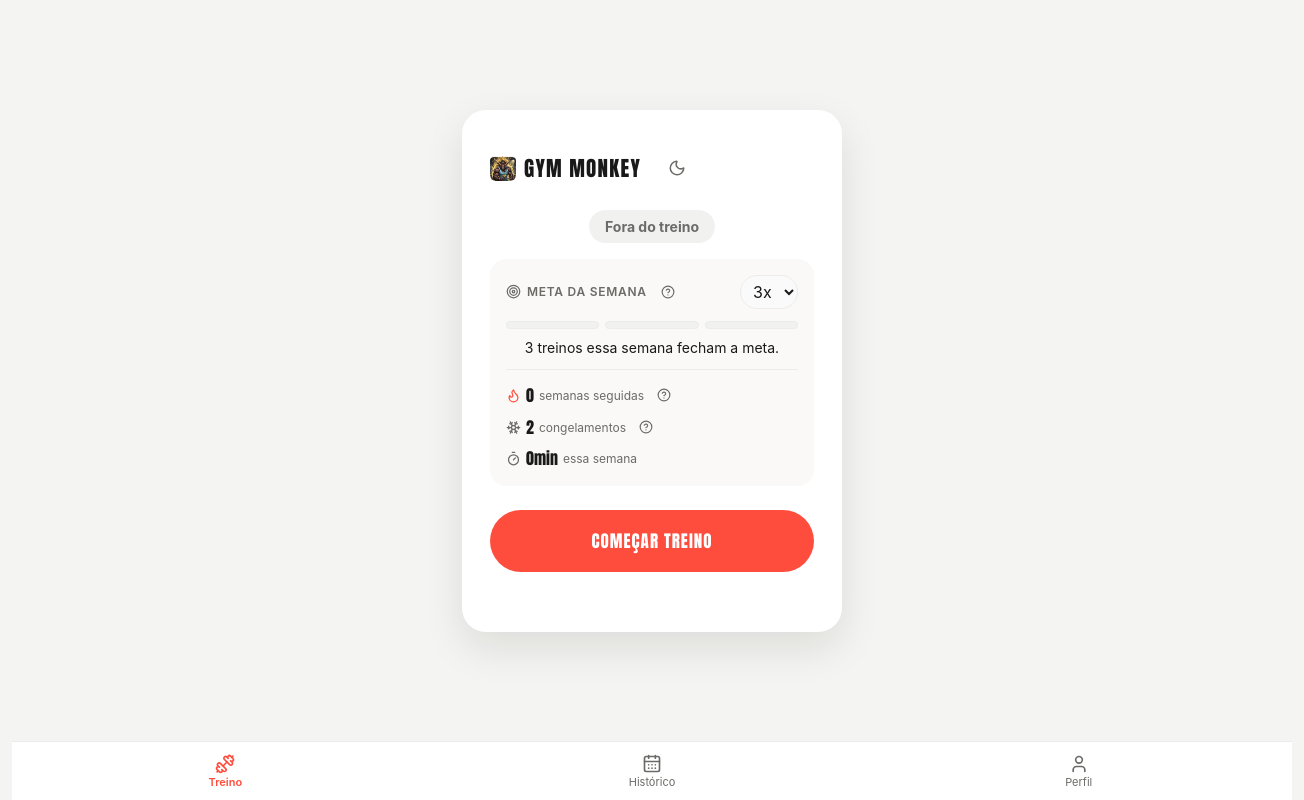
it: PontoScreen (sessoes) › carregamento › mostra estado vazio quando nao ha treino nenhum
Step 1. Click the button "Histórico" → (652, 771), box [439,742,865,799]
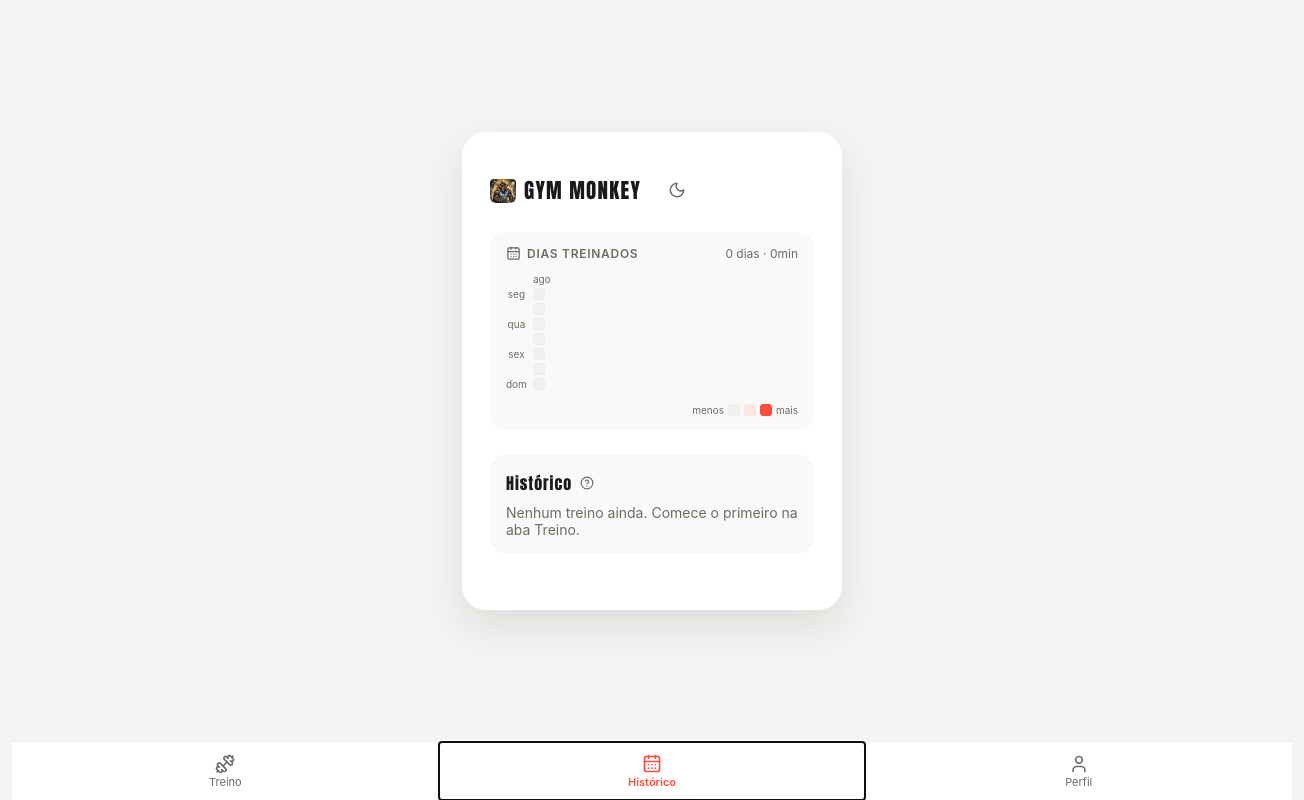
Expected: the text "Nenhum treino ainda. Comece o primeiro na aba Treino." is shown, [506,504,798,538]
